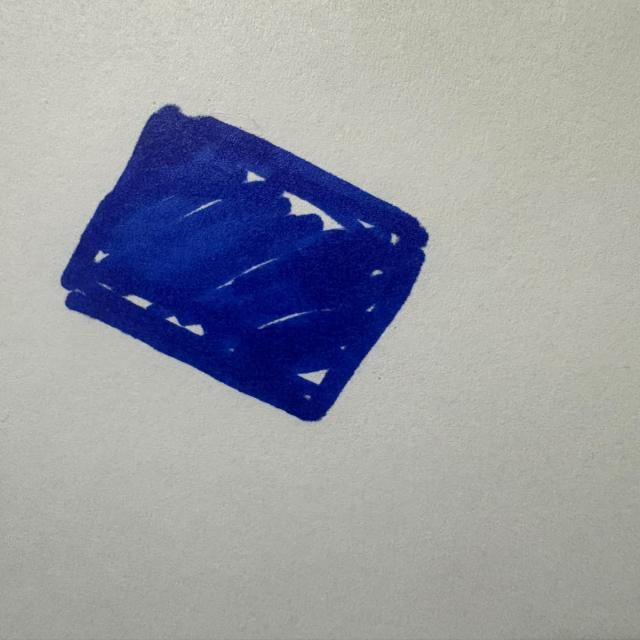Square: (61, 105, 427, 421)
